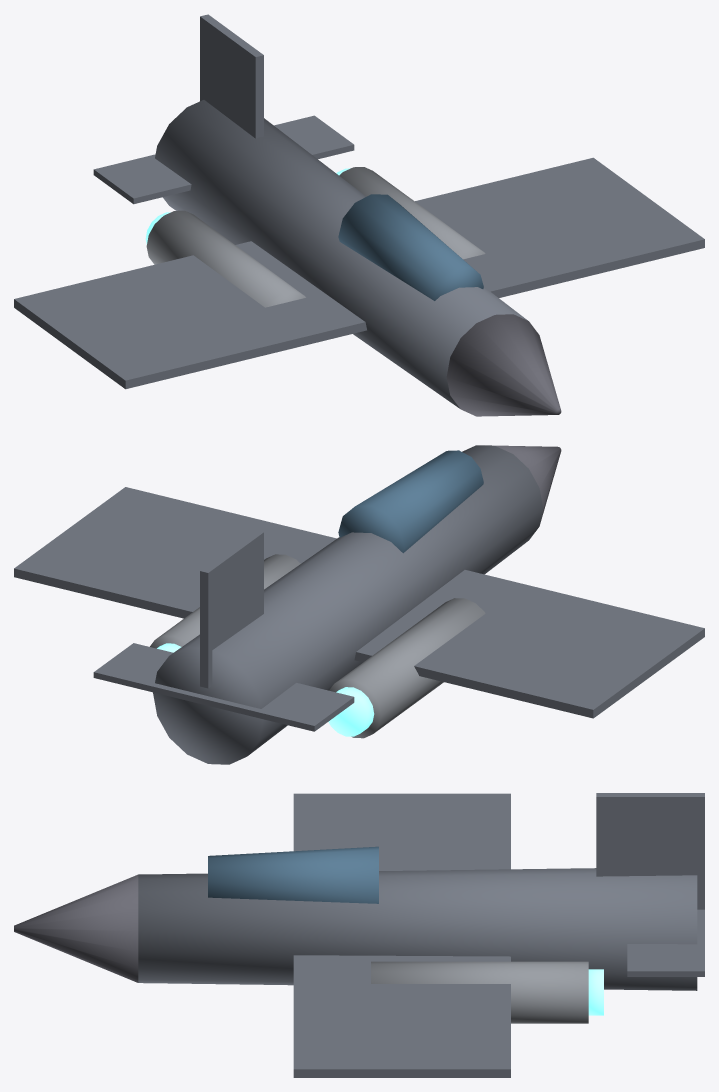
File: c43818fe-1527-48cf-8bff-e4fee26b7505.glb
The picture shows the model from 3 angles, top to bottom: view 1: azimuth 30°, elevation 25°; view 2: azimuth 150°, elevation 25°; view 3: azimuth 270°, elevation 25°; orthographic projection. The views are drawn at different scales.
Visible parts, largest first — view 1: Generated3DMesh; view 2: Generated3DMesh; view 3: Generated3DMesh.
Boxes of the visible parts, bbox=[...] form: Generated3DMesh: bbox=[14, 14, 704, 416]; Generated3DMesh: bbox=[14, 445, 704, 764]; Generated3DMesh: bbox=[14, 793, 704, 1077].
Bounding box in the file's own units: 4.2 × 1.35 × 4.45.
